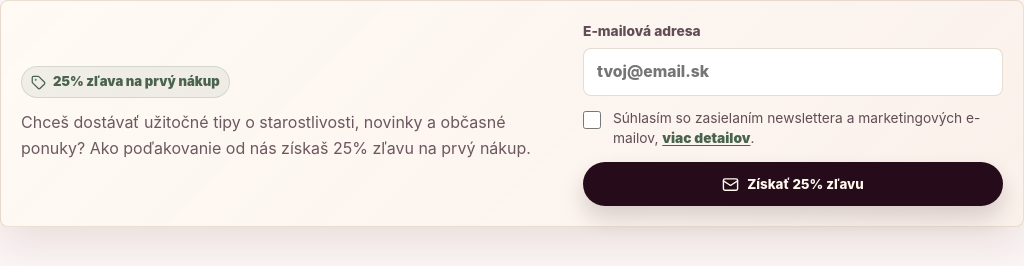
EmailCaptureOffer › applies a directly issued welcome claim to the shared persisted checkout state
Type "zakaznik@example.com" into the field labelled "E-mailová adresa" at [793, 72], box [583,48,1003,96]
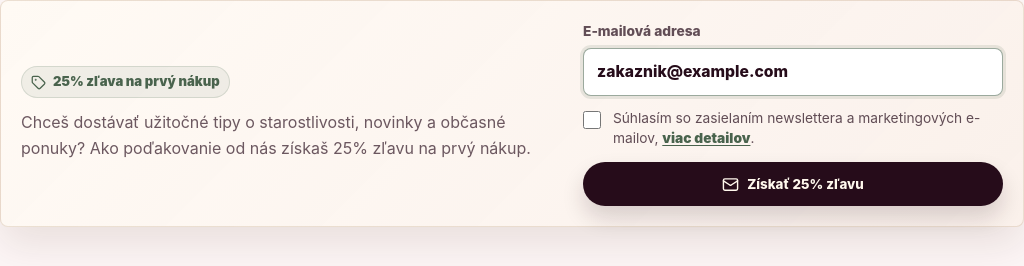
Click the checkbox at [592, 120], box [583,111,601,129]
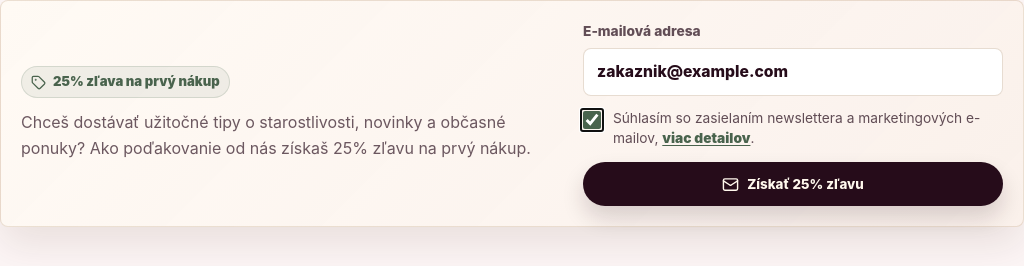
Click the button "Získať 25% zľavu" at [793, 184], box [583,162,1003,206]
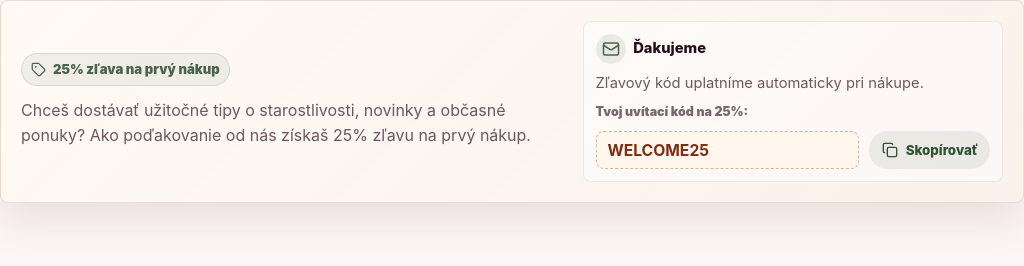
Now the text "WELCOME25" is shown, box [596,131,859,169]
